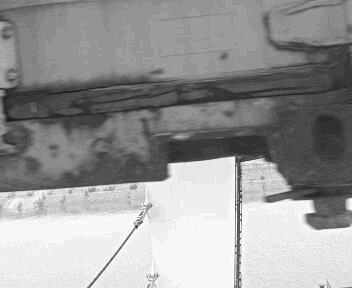twist_lock_1: (185, 182, 277, 243)
